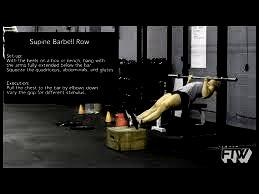Barbell: (234, 75, 241, 83)
